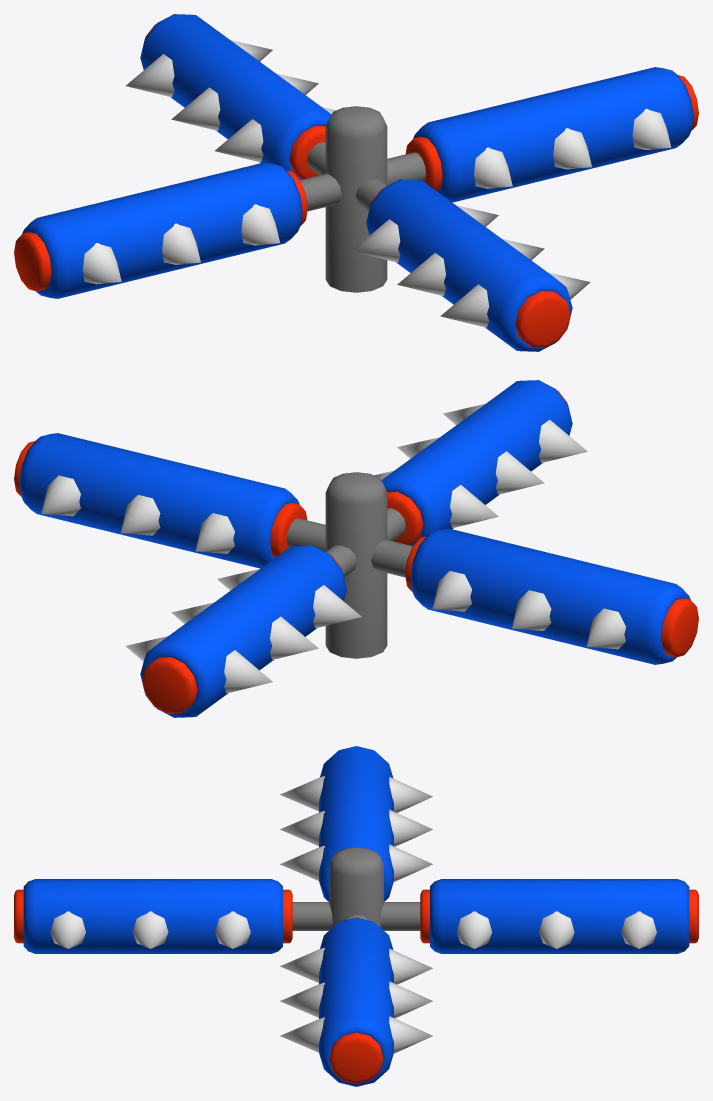
File: Obstacle-14.fbx
3 renders of one model, top to bottom at view 1: azimuth 30°, elevation 25°; view 2: azimuth 150°, elevation 25°; view 3: azimuth 270°, elevation 25°, orthographic. The views are drawn at different scales.
Parts seen in each view (by area): view 1: turning grinder, turning grinder holder; view 2: turning grinder, turning grinder holder; view 3: turning grinder, turning grinder holder.
Part boxes in pixels (<box>): turning grinder: <box>14,14,698,351</box>; turning grinder holder: <box>325,106,387,292</box>; turning grinder: <box>14,380,698,717</box>; turning grinder holder: <box>325,472,387,658</box>; turning grinder: <box>14,746,698,1086</box>; turning grinder holder: <box>329,847,383,927</box>.
Bounding box in the file's own units: 499 × 120 × 499.
